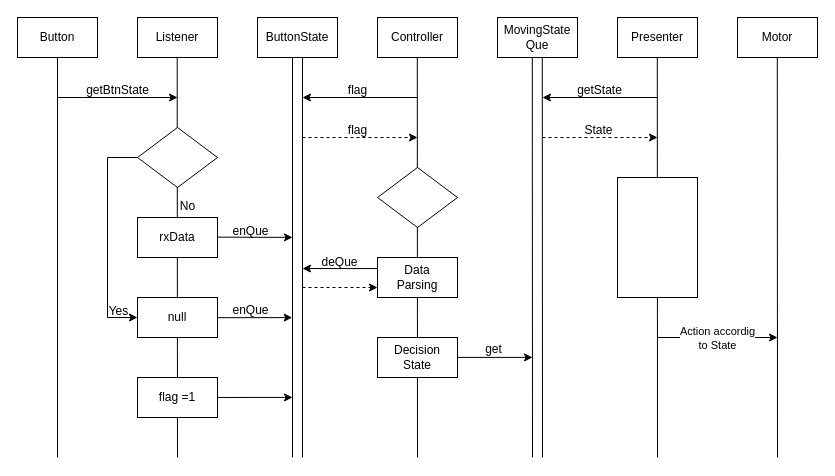
This 835x476 diagram has some shape labels left out. The box of each missing label's shape, as (x1, y1, x2, y2) in pixels:
flag == 1: (376, 166, 458, 228)
GO STOP LEFT RIGHT STOP SPEED: (616, 176, 698, 298)
rxData == ' ; ': (136, 126, 218, 188)
